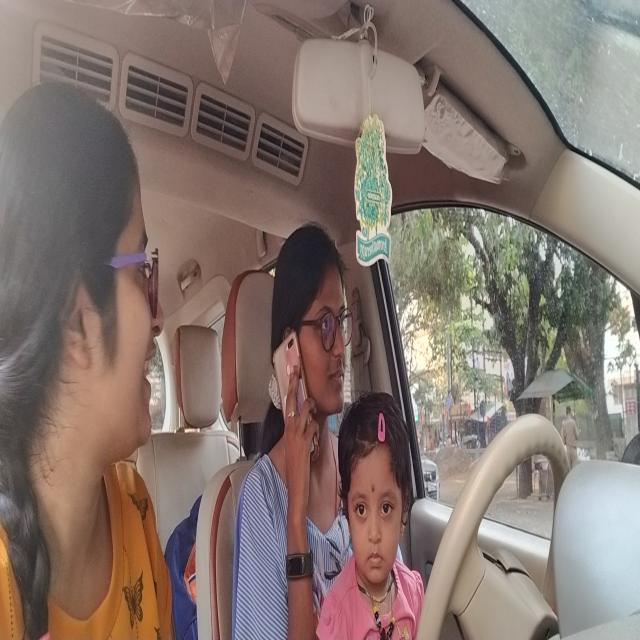child: (338, 382, 414, 590)
mobile: (272, 334, 320, 460)
person: (0, 68, 173, 499), (264, 205, 349, 470)
